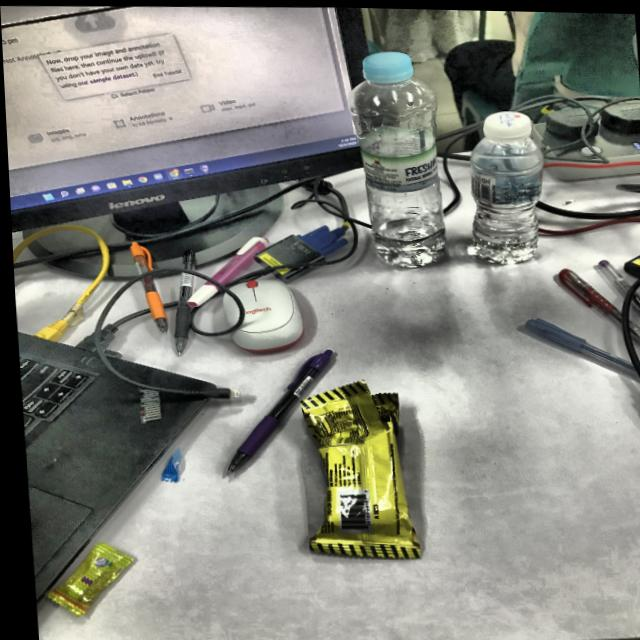Plastic: (303, 390, 416, 558), (46, 541, 128, 616)
